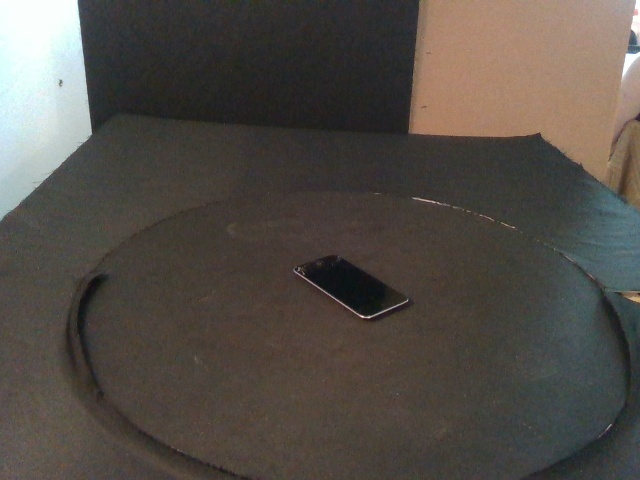phone: (294, 252, 410, 319)
